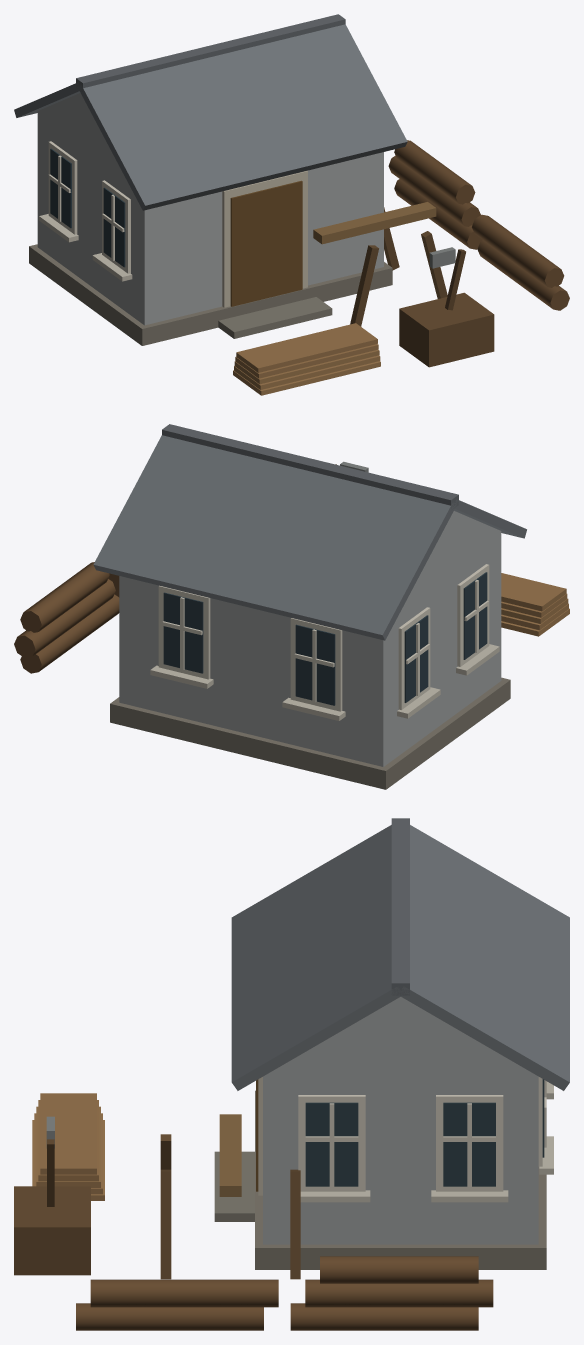
The model's file is procedural_lumber@6.glb.
The picture shows the model from 3 angles, top to bottom: view 1: azimuth 30°, elevation 25°; view 2: azimuth 150°, elevation 25°; view 3: azimuth 270°, elevation 25°; orthographic projection. The views are drawn at different scales.
Visible parts, largest first — view 1: part_0; view 2: part_0; view 3: part_0.
Part boxes in pixels (<box>): part_0: <box>14,14,569,395</box>; part_0: <box>14,424,569,789</box>; part_0: <box>14,818,569,1330</box>.
Bounding box in the file's own units: 6.69 × 3.96 × 6.86.
